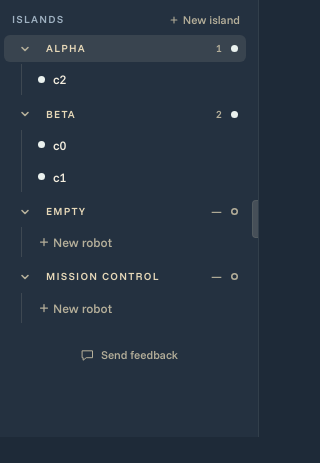
Scenario: Esc in the island rename gives up the rename and keeps the island selected
Step 1. Double-click the element with test id "sb-island-i_a" → (125, 49), box [4,35,246,62]
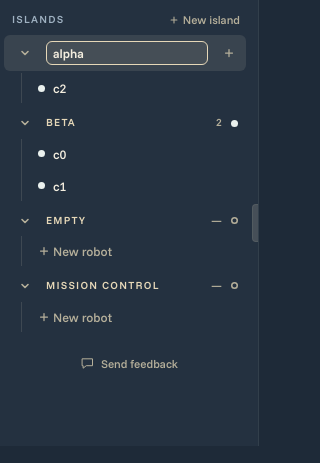
Step 2. Replace the text in the field with test id "island-name-input" with "half typed" → (127, 53), box [46,41,208,65]
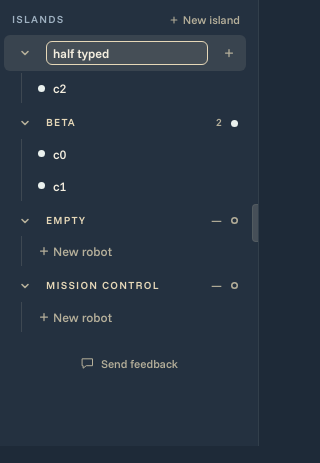
Step 3. Press Escape in the field with test id "island-name-input", box [46,41,208,65]
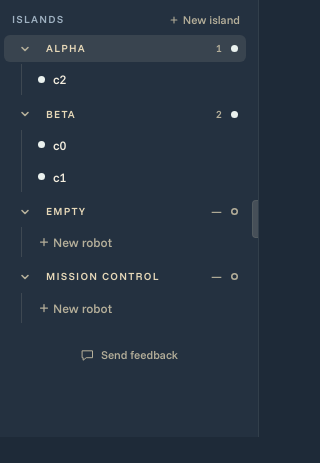
Check: the field with test id "island-name-input" is gone
